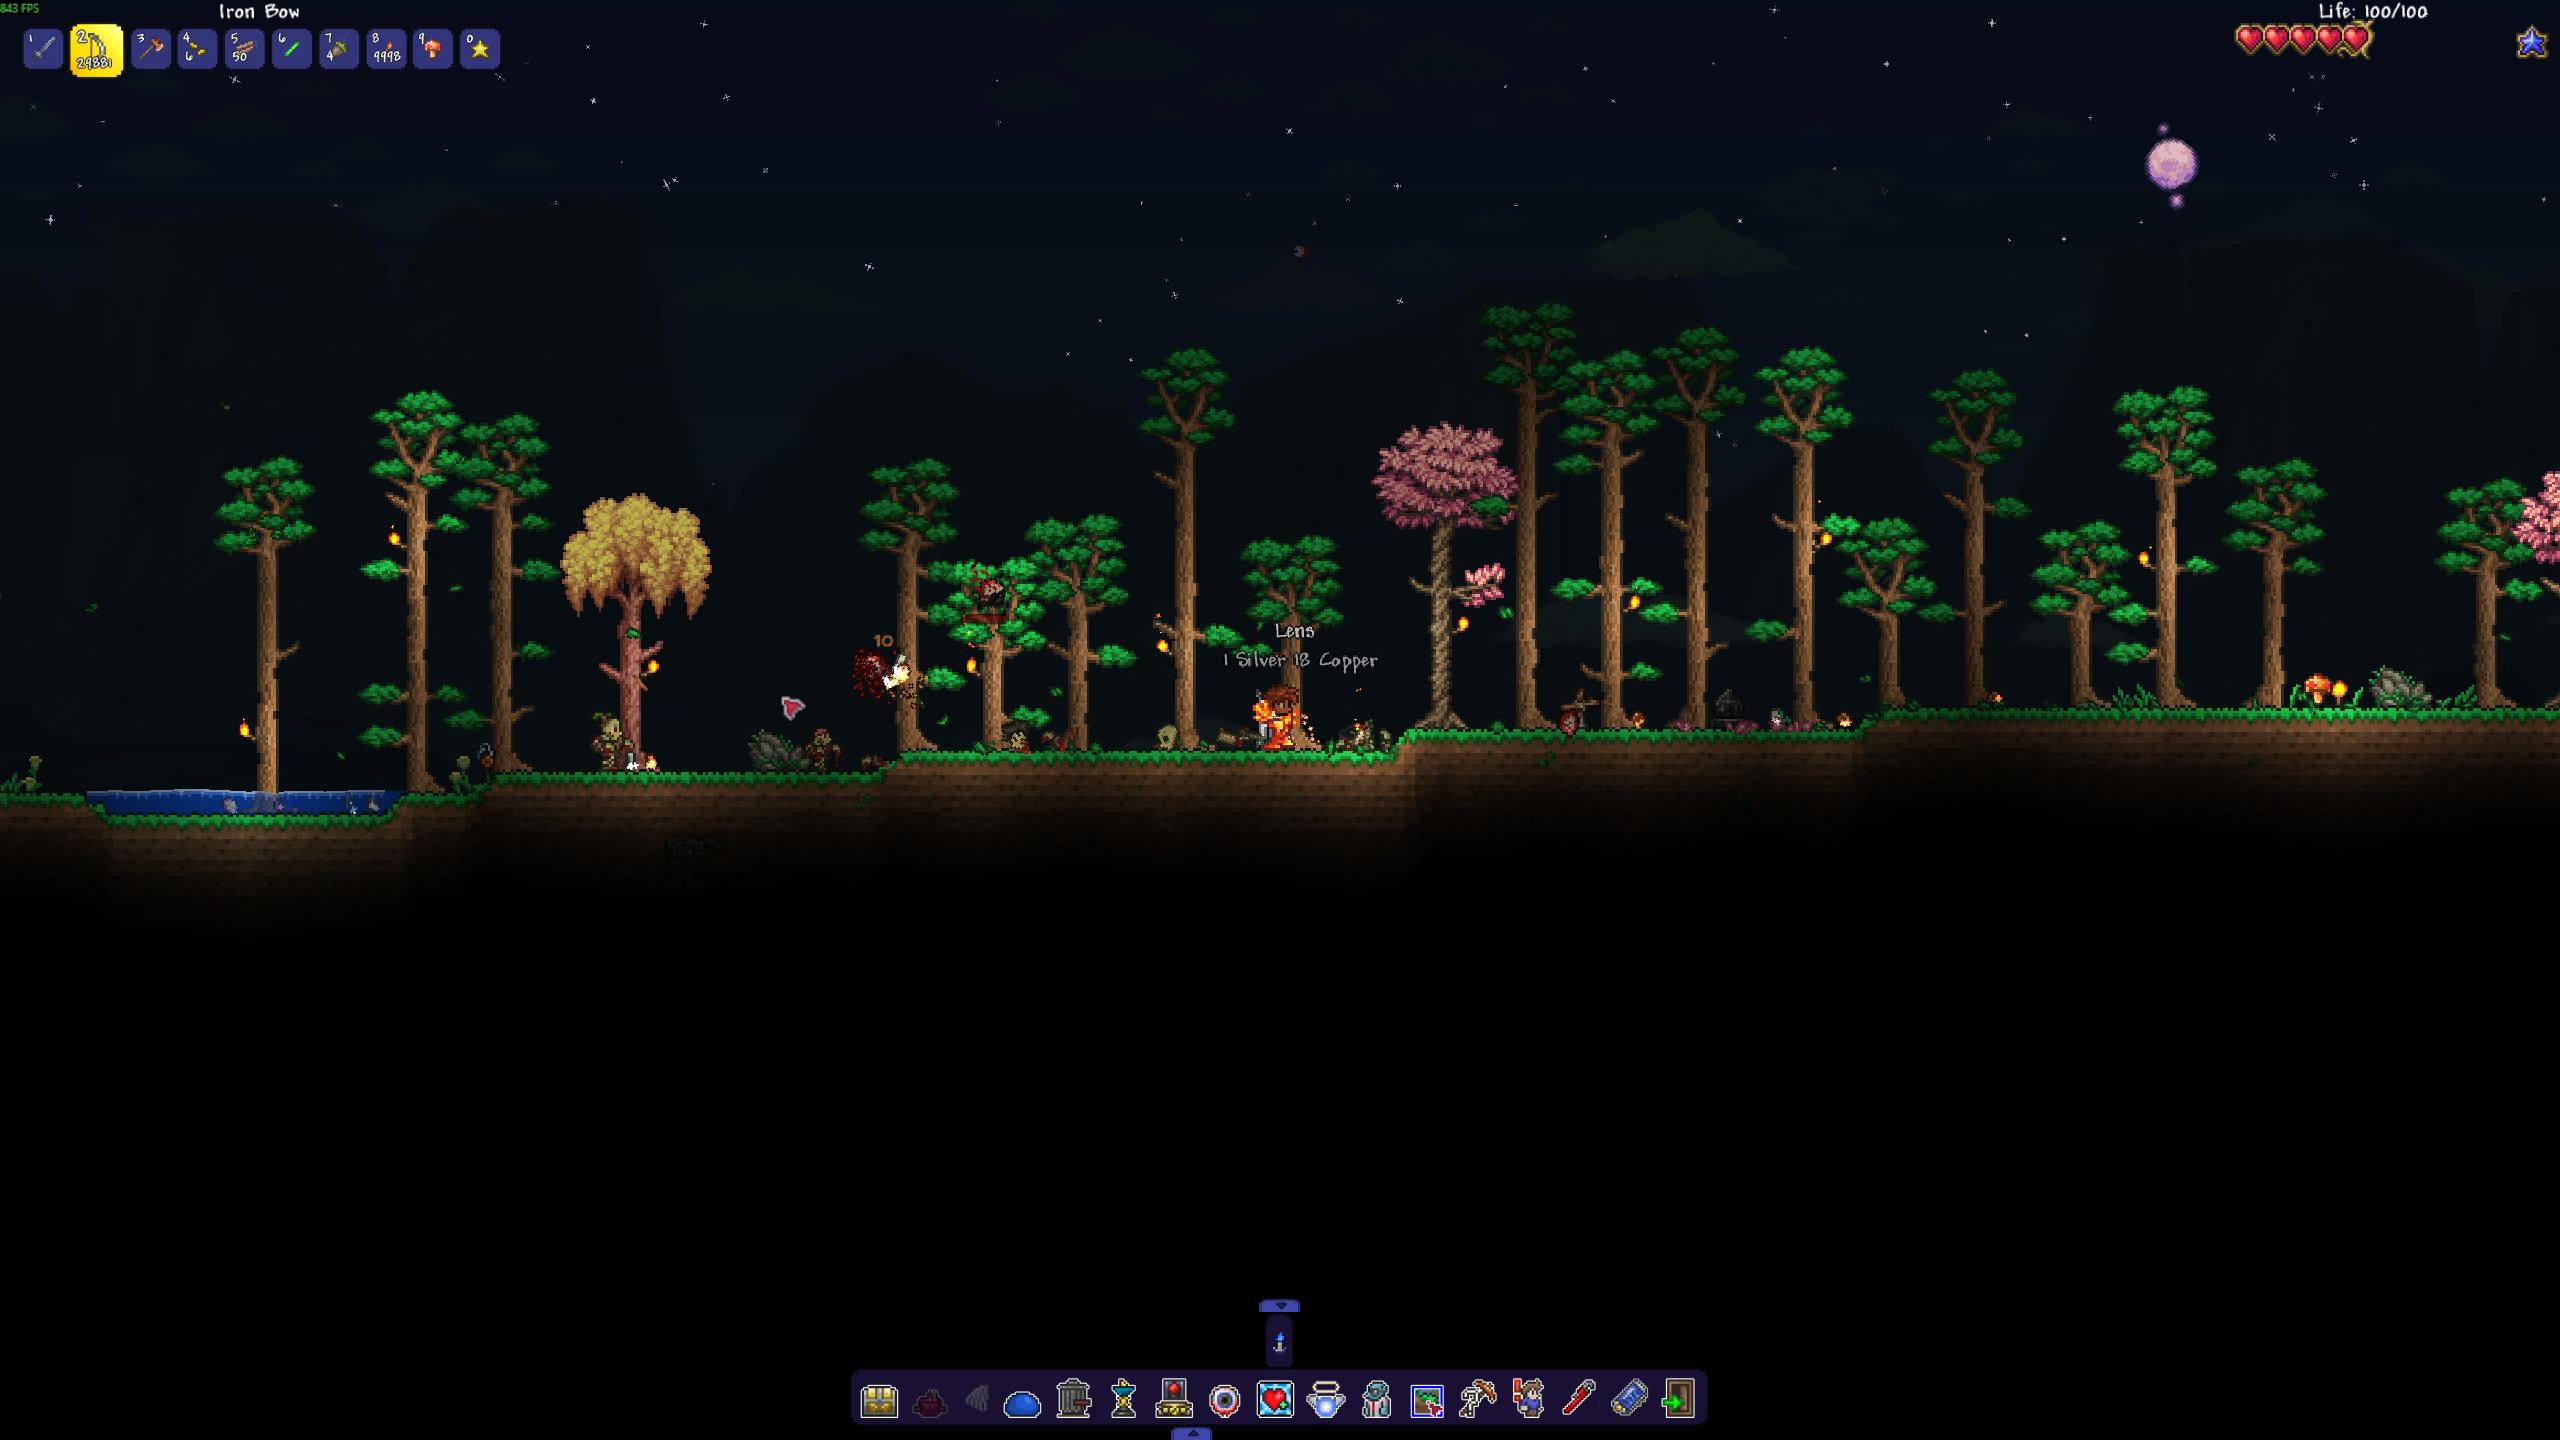Demon Eye: (958, 570, 1011, 614)
Zombie: (593, 705, 633, 770)
